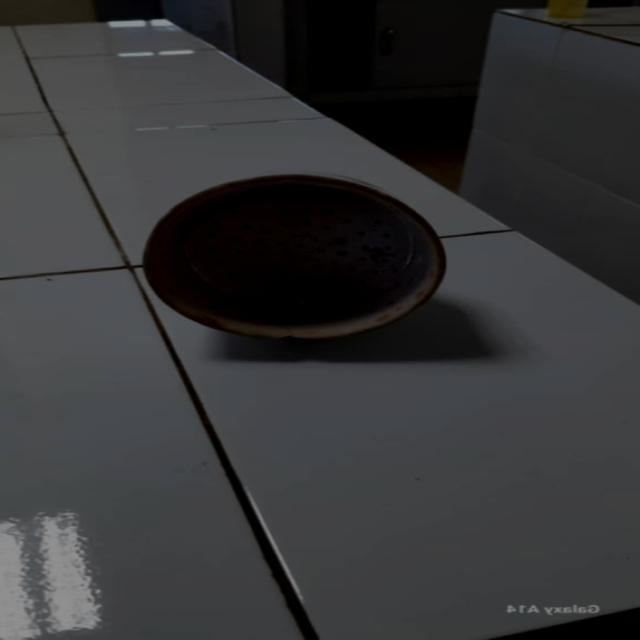Bunchen funnel: (132, 170, 460, 346)
